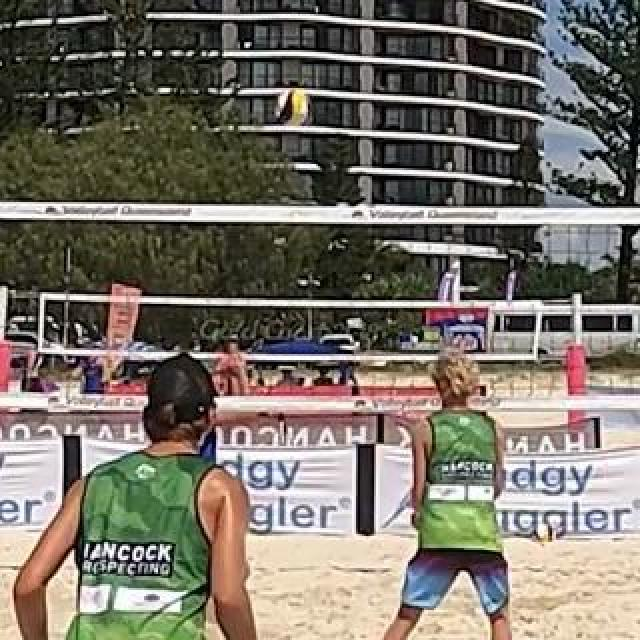volleyball: (277, 89, 309, 123), (533, 523, 557, 547)
